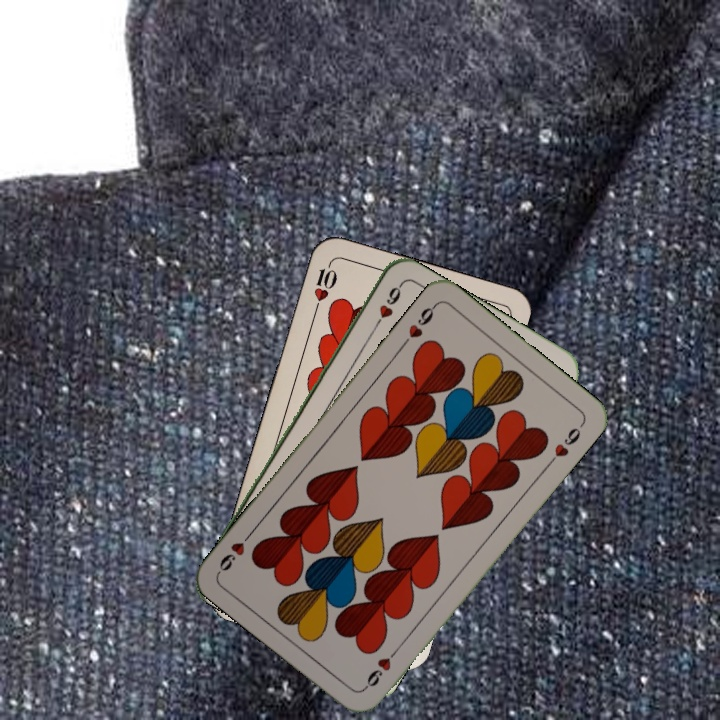H10: (309, 259, 340, 317)
H9: (359, 643, 402, 692), (398, 300, 440, 350), (368, 281, 405, 334)
